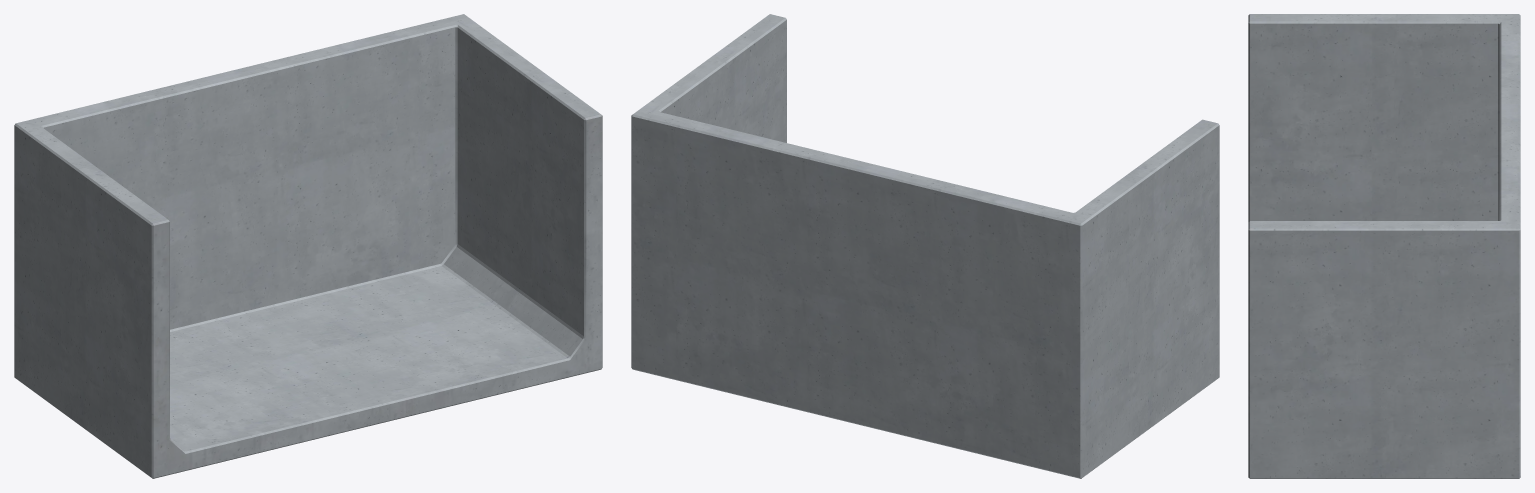
Rendered from Zbiornik Startowy.glb.
3 renders of one model, left to right at view 1: azimuth 30°, elevation 25°; view 2: azimuth 150°, elevation 25°; view 3: azimuth 270°, elevation 25°, orthographic.
Parts seen in each view (by area): view 1: Zbiornik Startowy; view 2: Zbiornik Startowy; view 3: Zbiornik Startowy.
Boxes of the visible parts, bbox=[...] form: Zbiornik Startowy: bbox=[14, 14, 602, 478]; Zbiornik Startowy: bbox=[631, 14, 1219, 478]; Zbiornik Startowy: bbox=[1248, 14, 1520, 478].
Bounding box in the file's own units: 2.86 × 1.55 × 1.53.
1 material, 1 textured.
